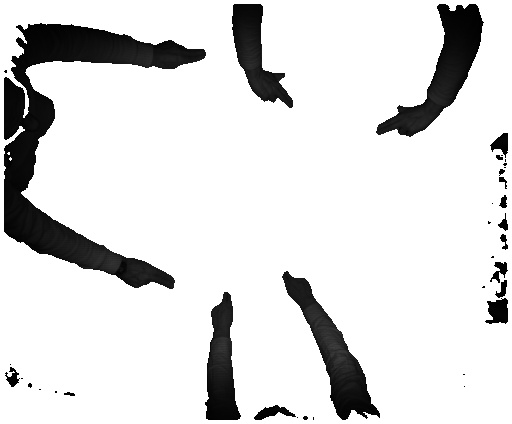hand: (376, 104, 436, 143), (249, 69, 295, 111), (124, 260, 175, 295), (155, 40, 207, 71), (208, 288, 239, 336), (280, 264, 314, 307)
